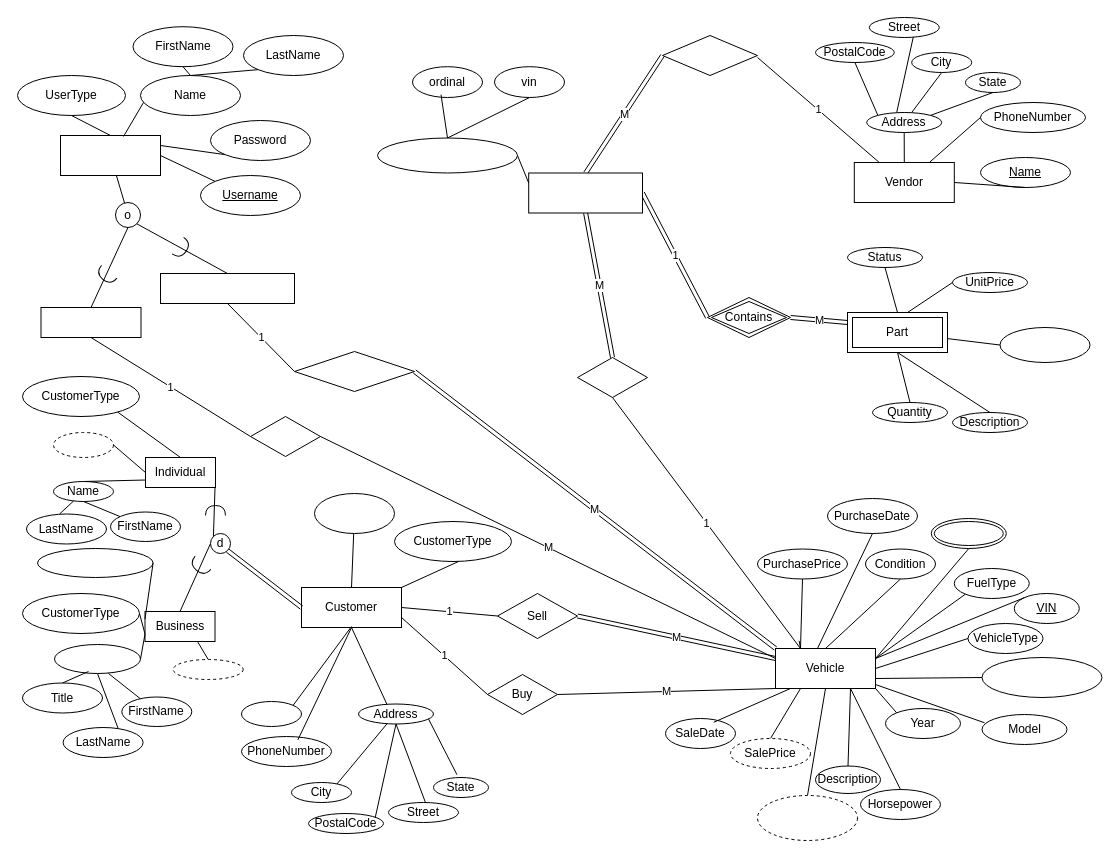
Some shapes in this 1120 by 858 pixel diagram are drawn without their labels. The centre of each missing label's shape, as x and y in pixels:
BusinessName: point (94, 563)
Colors: point (968, 533)
Email: point (271, 713)
EmployeeBuyer: point (227, 288)
EmployeeSeller: point (90, 322)
Has: point (612, 377)
Manufacturer: point (1041, 677)
PartNumber: point (1044, 344)
Parts Order: point (585, 192)
PartsOrderNumber: point (447, 155)
PrimaryContact: point (97, 659)
PurchasedBy: point (354, 371)
SoldBy: point (285, 436)
SSN: point (83, 445)
Supplies: point (710, 55)
TaxID: point (354, 513)
TIN: point (207, 669)
TotalPartsPrice: point (807, 817)
User: point (110, 155)
